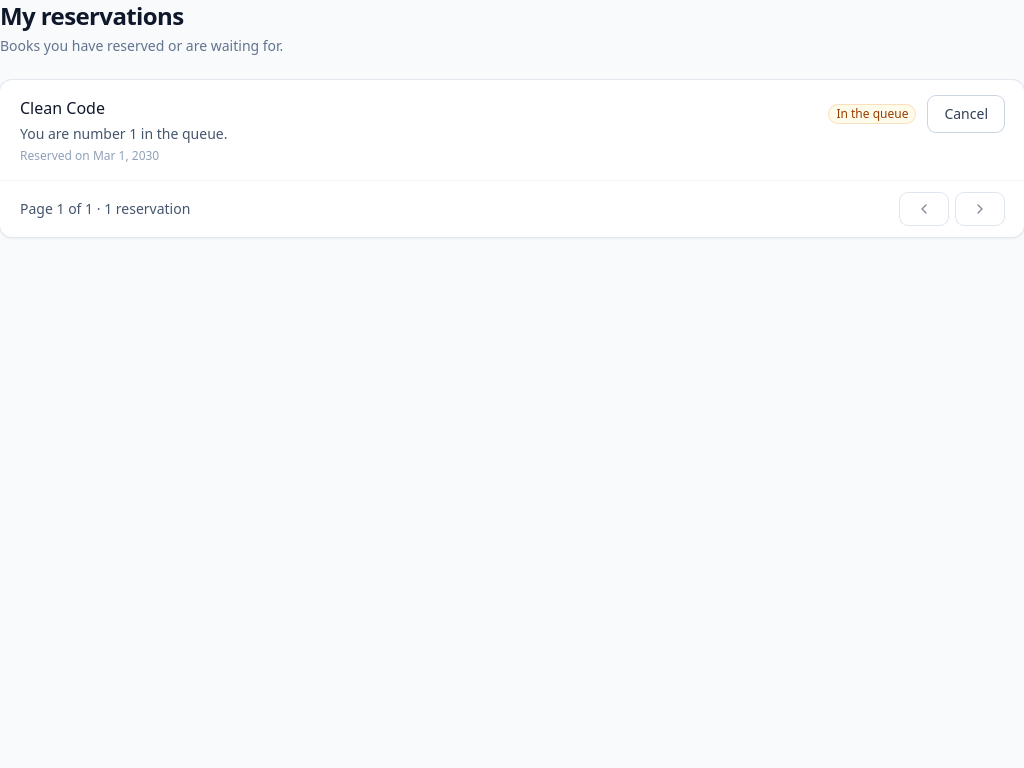
Scenario: MyReservationsPage › does nothing when the student backs out of the confirmation
The image size is (1024, 768).
Click the button with aria-label "Cancel reservation for Clean Code".
click(966, 114)  # box [928, 96, 1004, 132]
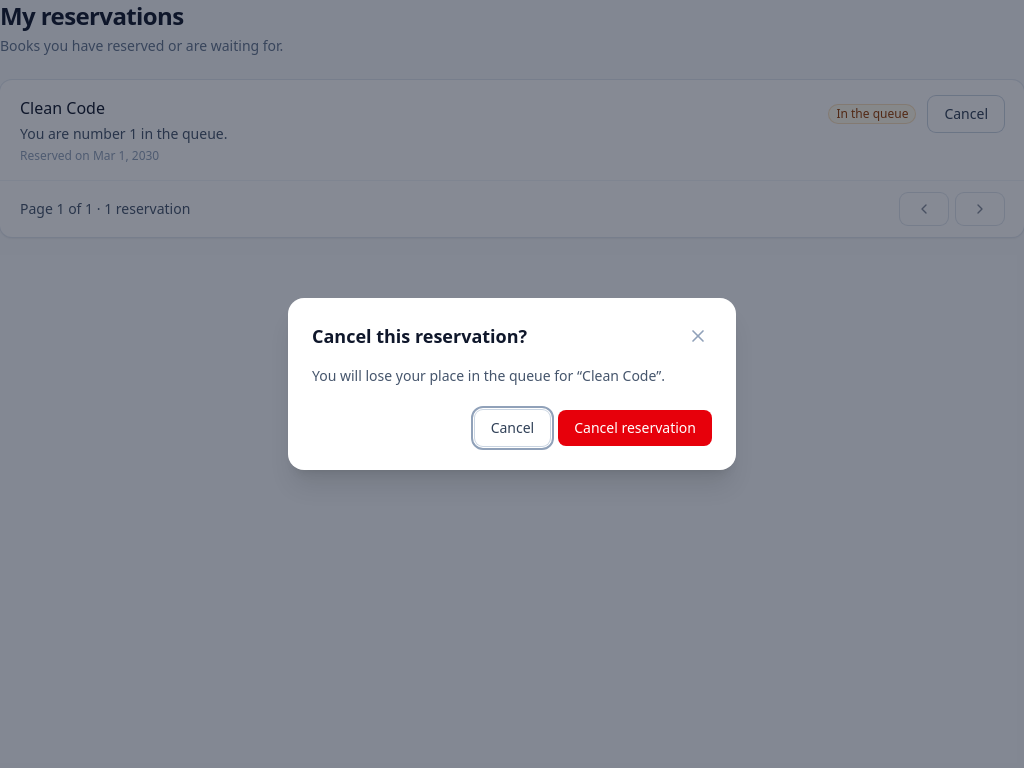
Click the button "Cancel".
click(512, 428)  # box [475, 410, 550, 446]
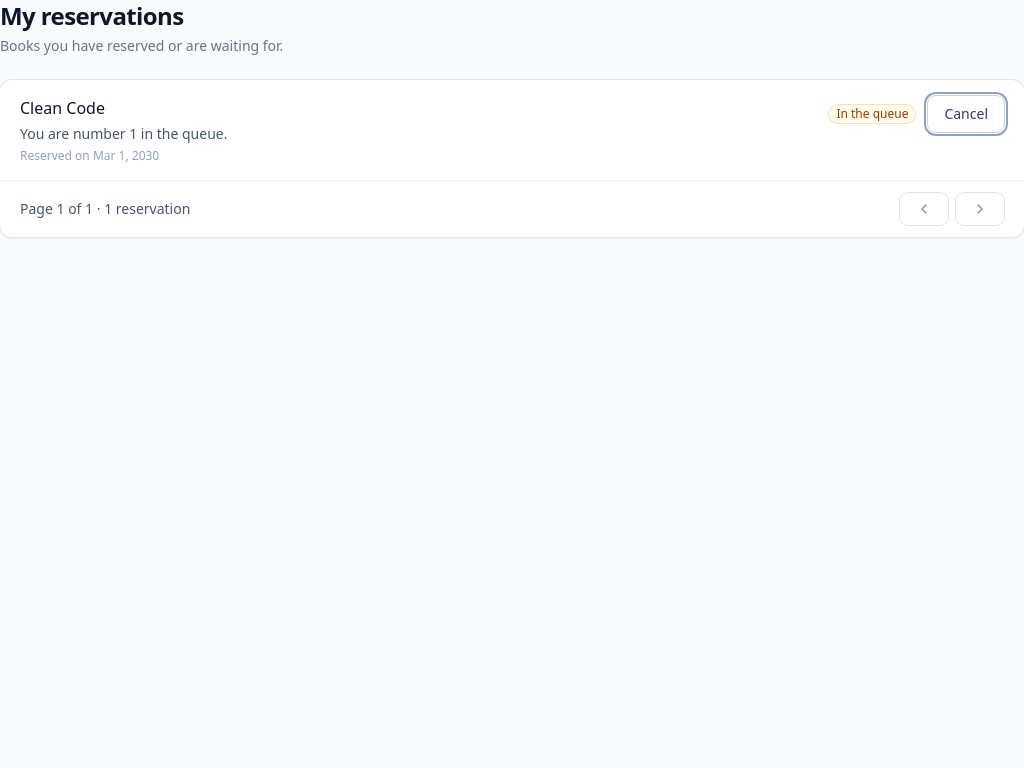
expect the dialog is gone: met
